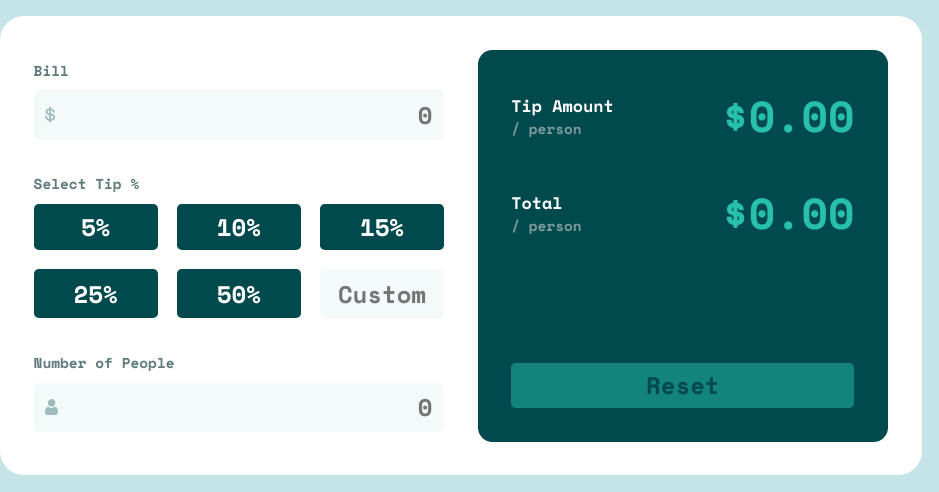
Test: test TipCalculator component › events test › test calculation with tip button
The width and height of the screenshot is (939, 492).
Type "100" into the number field labelled "Bill". click: coordinates (244, 115)
box: [56, 97, 432, 133]
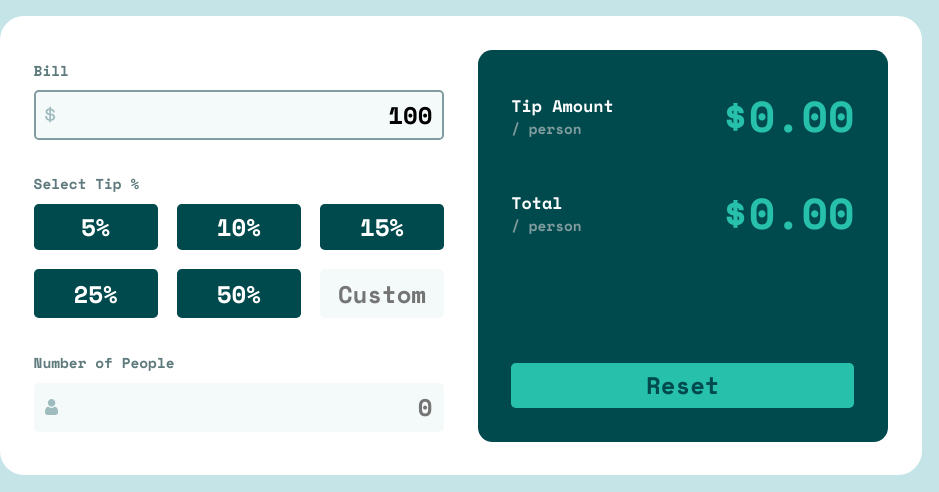
Type "2" into the number field labelled "Number of People". click: coordinates (245, 407)
box: [58, 389, 432, 425]
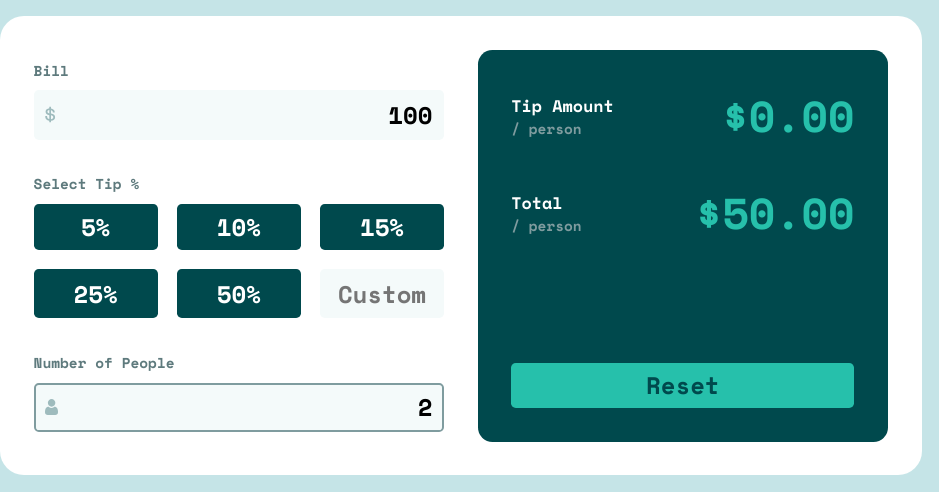
Click the button "5%". click: coordinates (96, 227)
box: [34, 204, 158, 250]
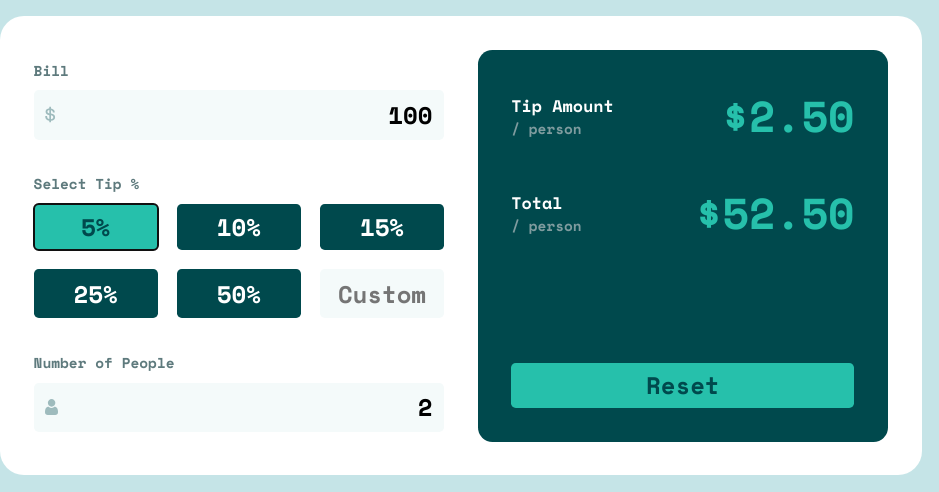
Expected: the text "$2.50" is shown, [722, 84, 854, 148]
Expected: the text "$52.50" is shown, [696, 181, 854, 245]
